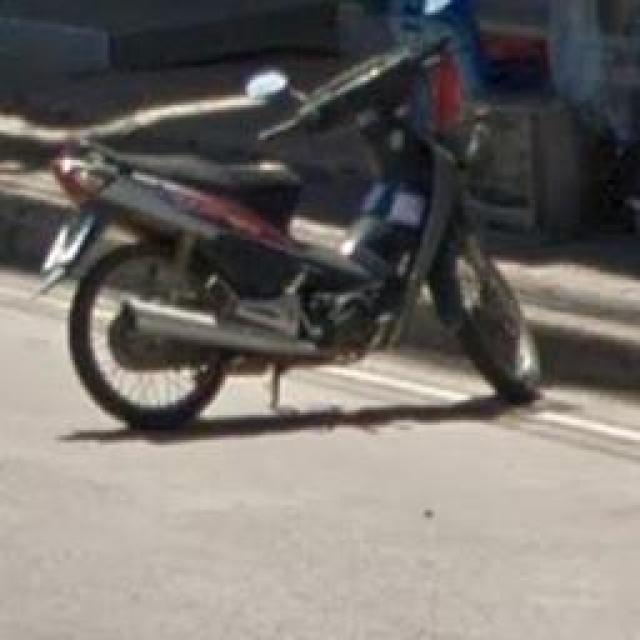motorbike: (23, 0, 564, 443)
